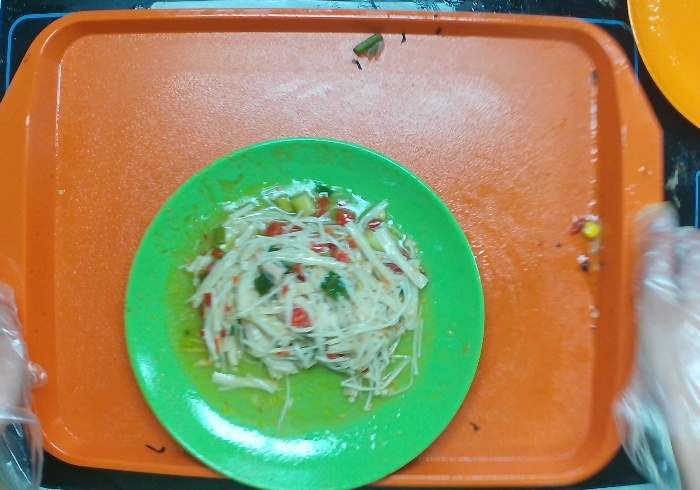HZYJPL-Lv_Se_Yuan_Pan: (122, 134, 487, 490)
